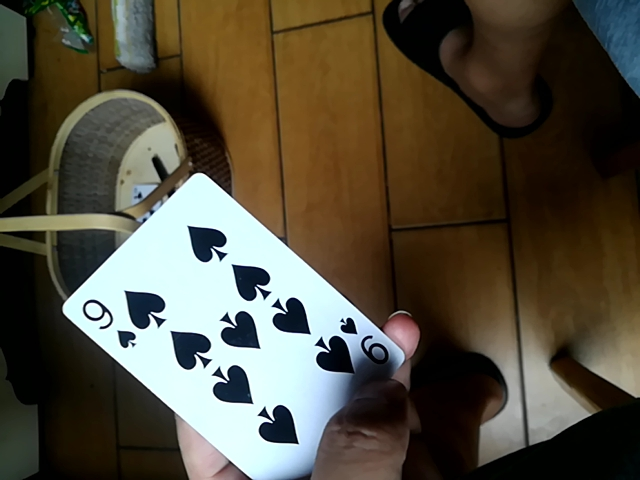ht 9: (60, 167, 415, 477)
